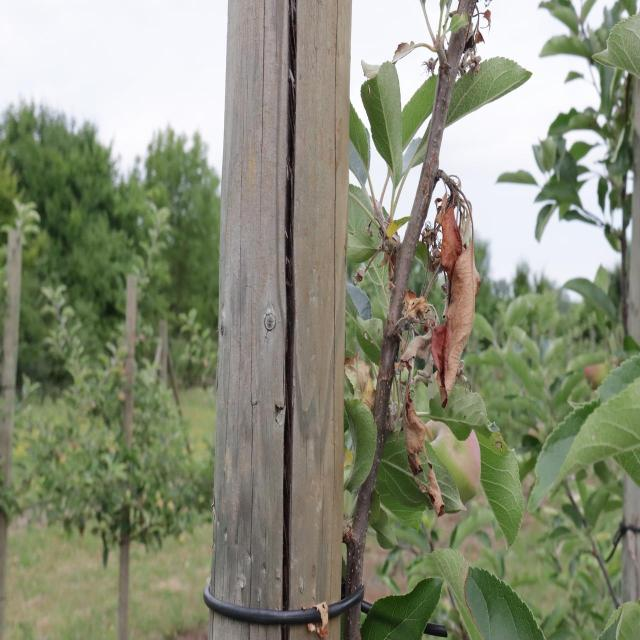-FireBlight-: (409, 169, 488, 412)
